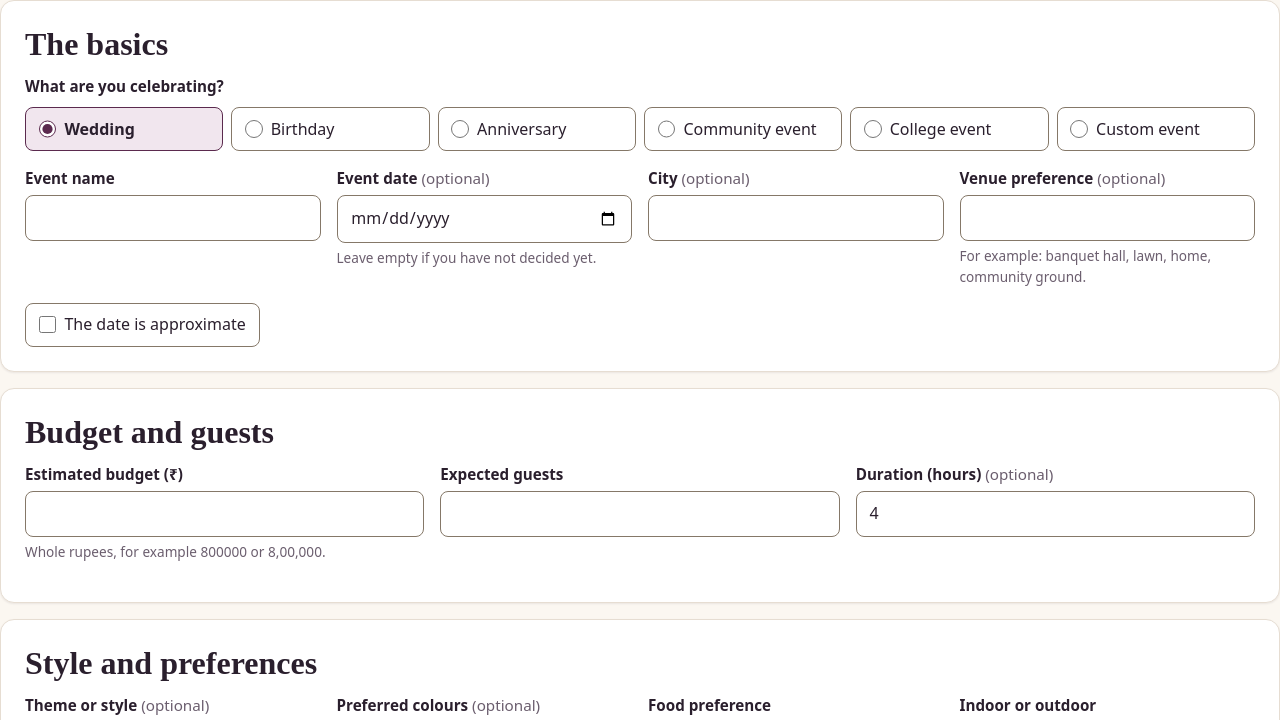
Test case: EventForm › warns about a very tight budget before submitting
In the field labelled "Event name": x=173, y=218 25,194 -> 320,240, type "Big do"
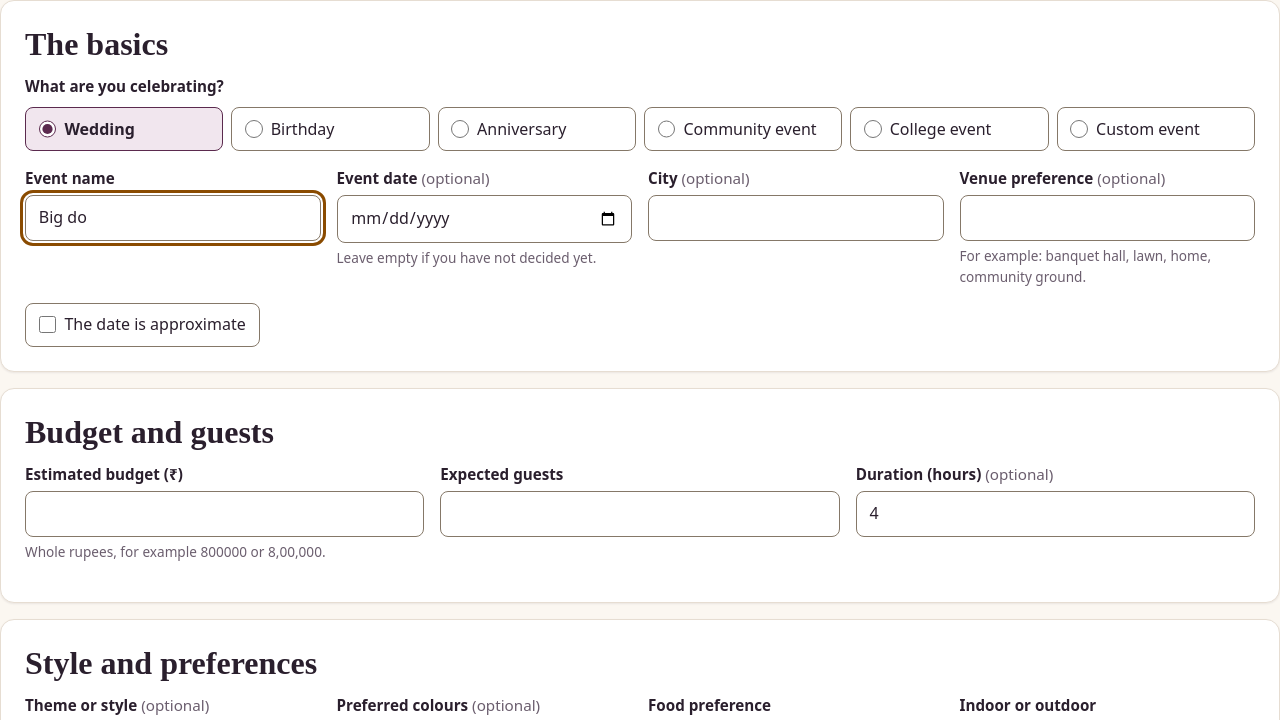
In the field labelled "Expected guests": x=640, y=514 440,491 -> 840,537, type "500"
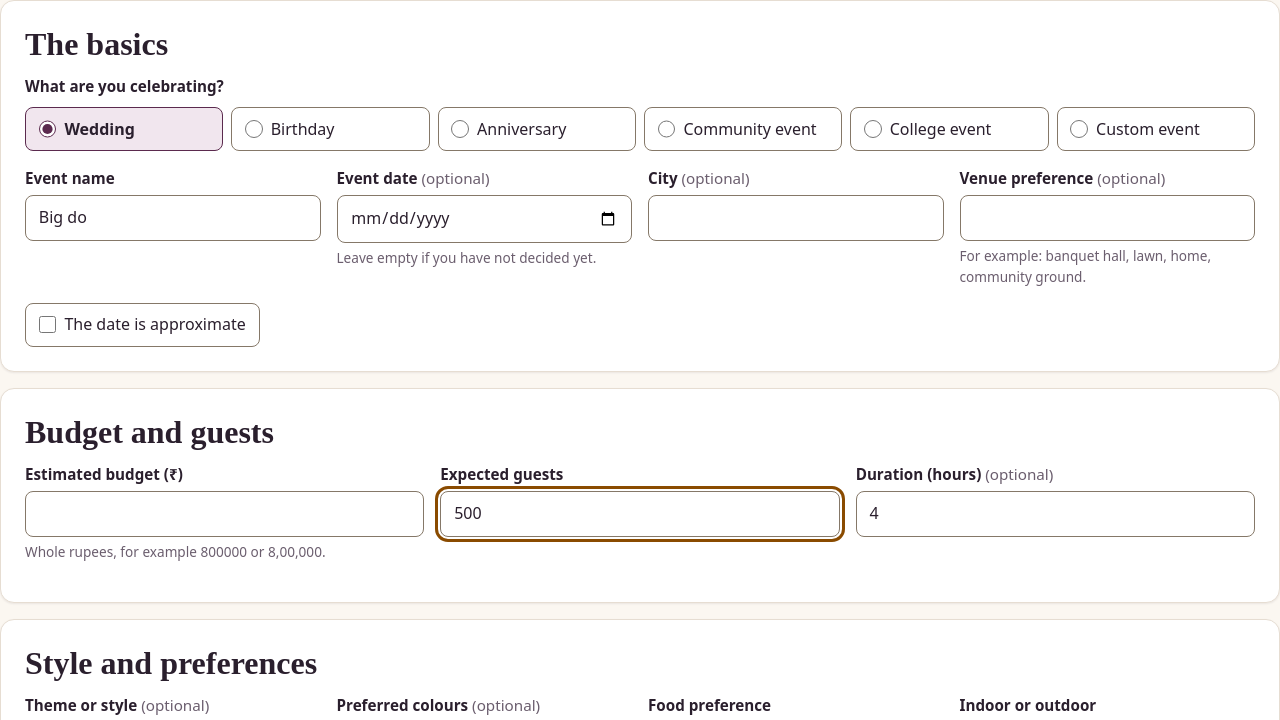
In the field labelled "Estimated budget (₹)": x=225, y=514 25,491 -> 424,537, type "20000"
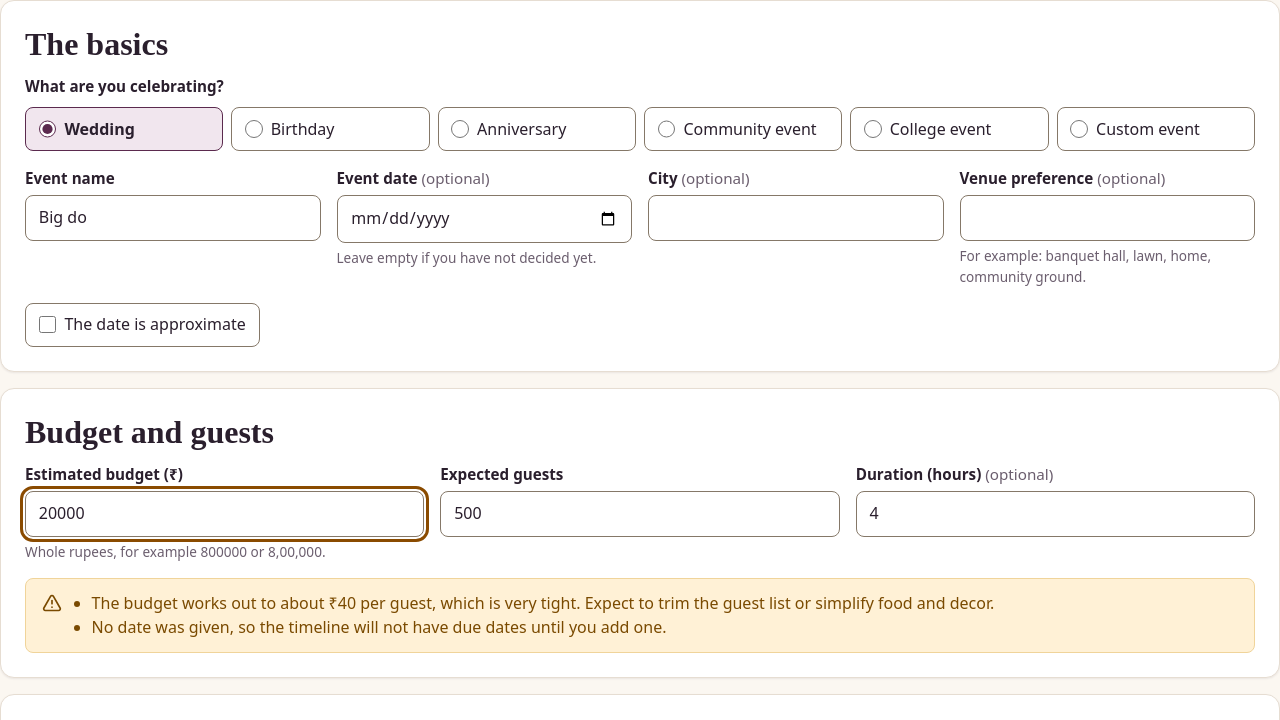
Expected: the list item "very tight" is shown, 92,592 -> 994,614
